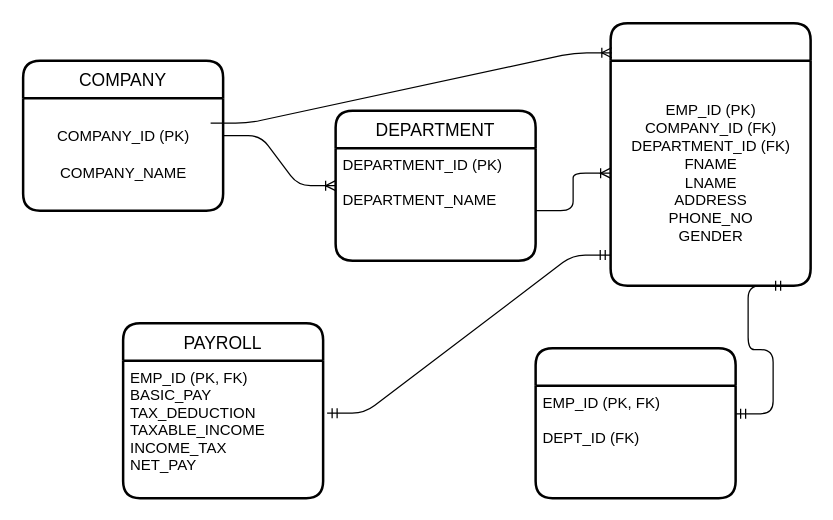
Image size: 833x520. Some labels were removed from this diagram. Each missing label, with the box of its shape:
EMP_DEPT: (534, 346, 736, 499)
EMPLOYEE: (609, 21, 811, 286)
